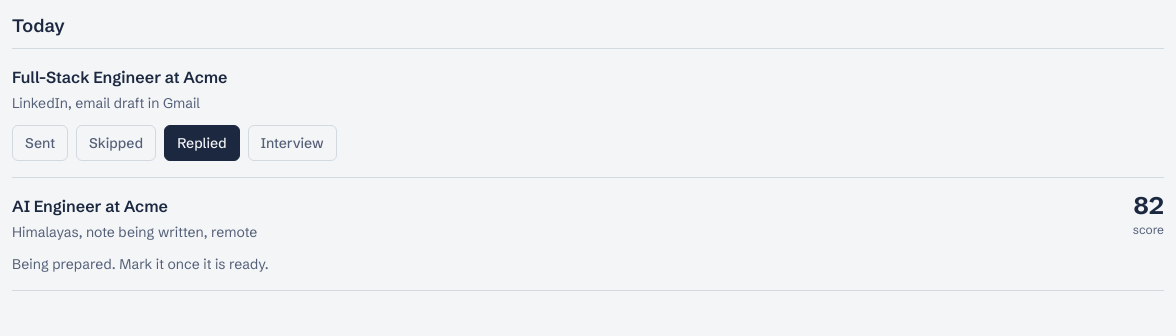
Test: a refused mark is undone and explained; one being prepared cannot be marked yet
This screenshot has width=1176, height=336.
Click the button "Skipped": (116, 143) [76,125,156,161]
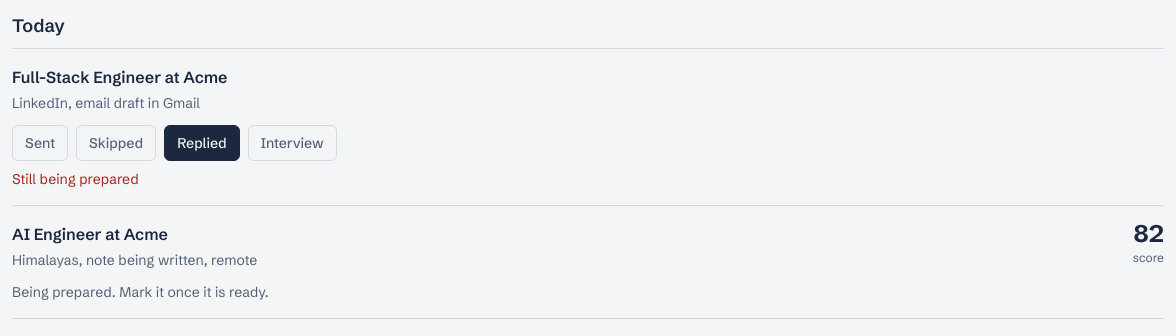
Check: the text "Being prepared. Mark it once it is ready." is shown, box [12,283,269,301]
Check: the message reads "Still being prepared", box [12,170,139,188]
